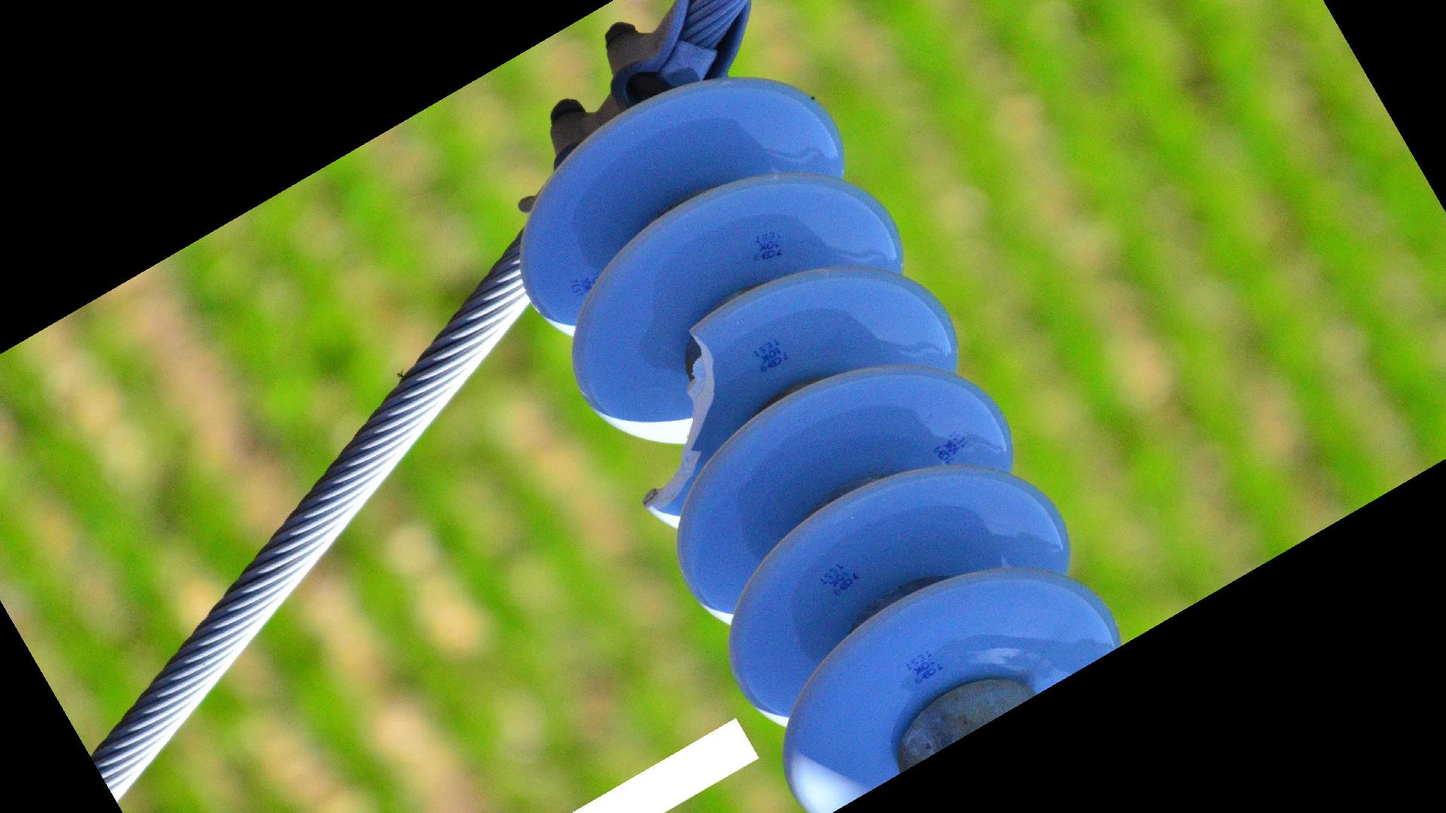insulator: (506, 69, 1129, 813)
insulator_breakage: (638, 321, 724, 521)
